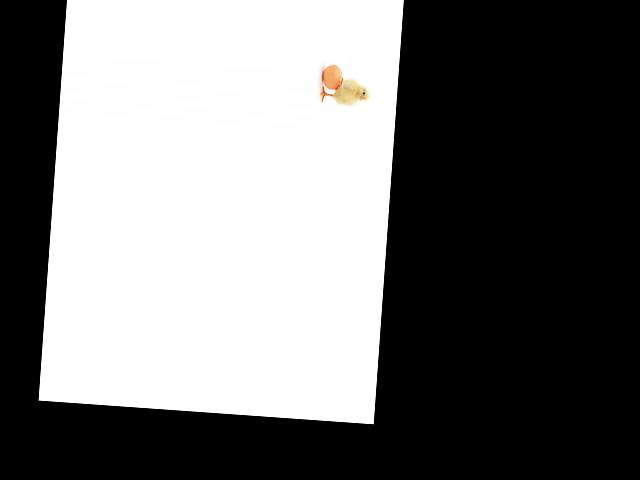egg: (322, 64, 343, 91)
